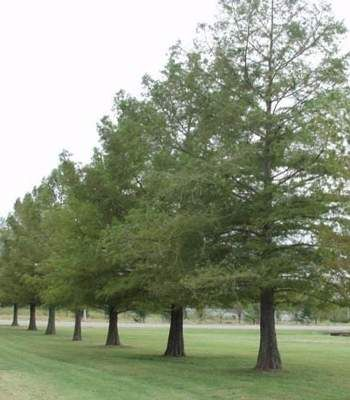tree: (188, 1, 349, 372)
